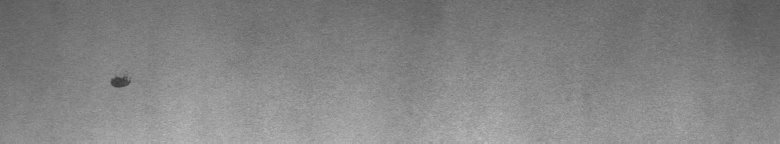fi: (104, 68, 133, 96)
